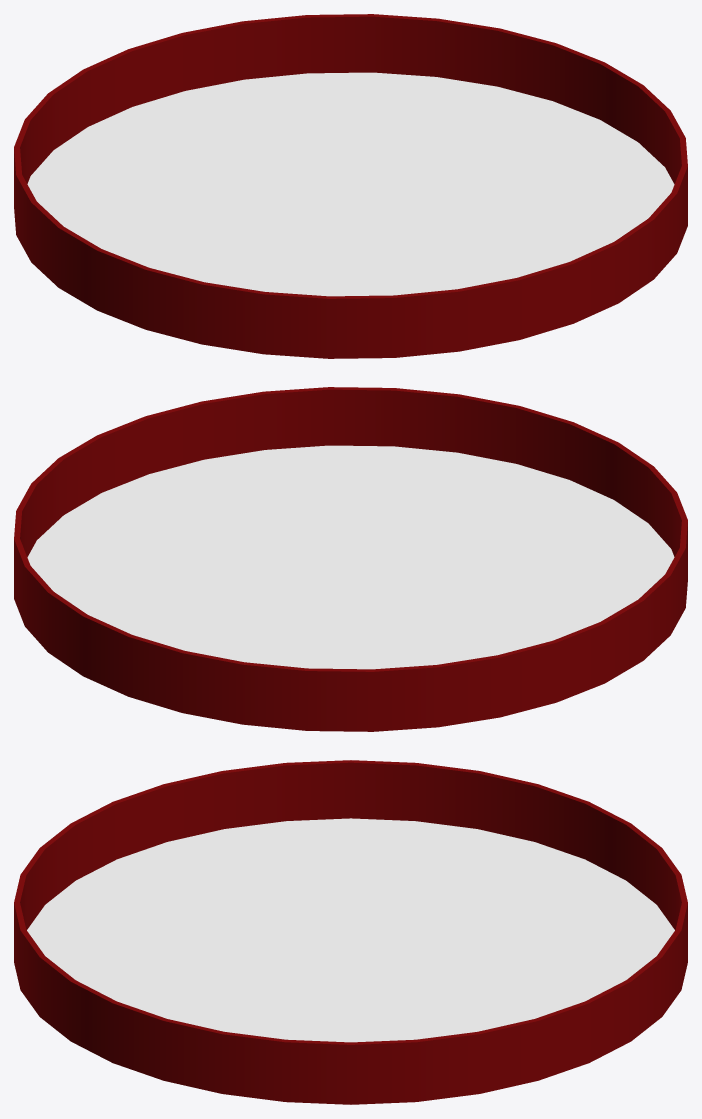
Rendered from arena.fbx.
3 views of the same model, one above another, from view 1: azimuth 30°, elevation 25°; view 2: azimuth 150°, elevation 25°; view 3: azimuth 270°, elevation 25° (orthographic).
Visible parts, largest first — view 1: Circle; view 2: Circle; view 3: Circle.
Part boxes in pixels (x1=…): Circle: x1=14, y1=14, x2=687, y2=358; Circle: x1=14, y1=387, x2=687, y2=731; Circle: x1=14, y1=760, x2=687, y2=1104.
Size of the model in its own units: 200 by 19.59 by 200.
